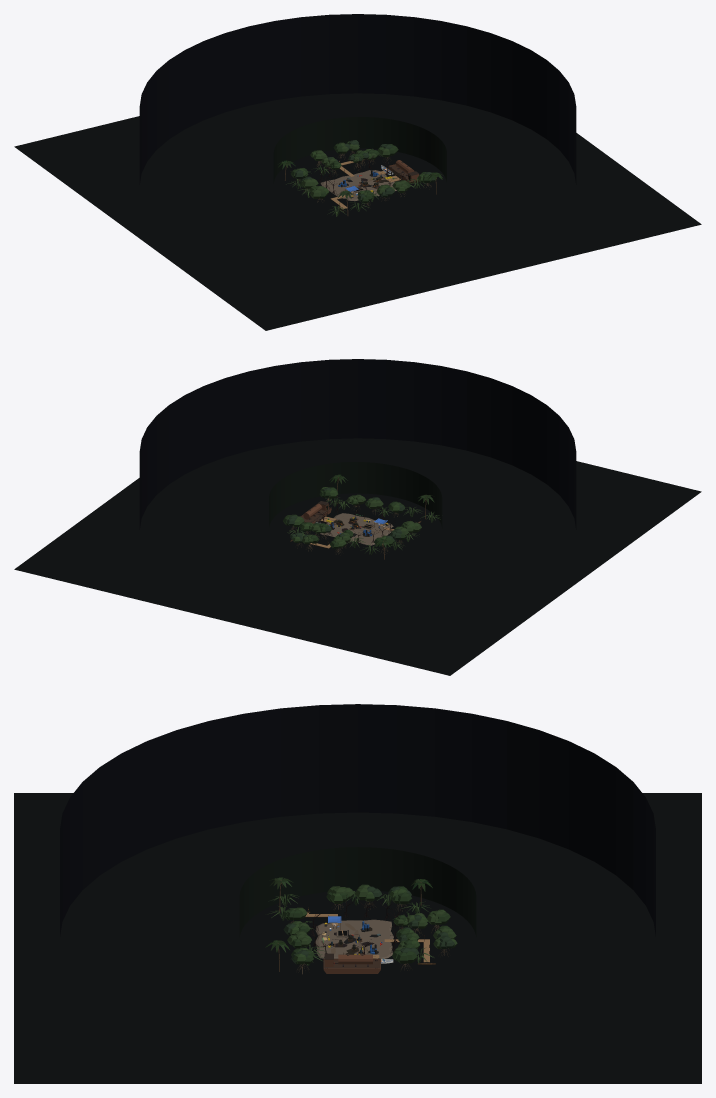
The model's file is creek.glb.
The picture shows the model from 3 angles, top to bottom: view 1: azimuth 30°, elevation 25°; view 2: azimuth 150°, elevation 25°; view 3: azimuth 270°, elevation 25°; orthographic projection. The views are drawn at different scales.
Parts seen in each view (by area): view 1: Water, Pano, Env, Wall; view 2: Water, Pano, Env, Wall; view 3: Water, Pano, Env, Wall.
Boxes of the visible parts, x1,y1,x2,y2 form: Water: (14,93,701,330); Pano: (139,14,576,184); Env: (278,140,443,216); Wall: (273,117,446,183); Water: (14,438,701,675); Pano: (139,359,576,529); Env: (283,474,440,559); Wall: (269,462,442,528); Water: (14,793,701,1083); Pano: (60,704,655,936); Env: (265,877,457,974); Wall: (239,847,476,936).
Bounding box in the file's own units: 180 × 34 × 180.
